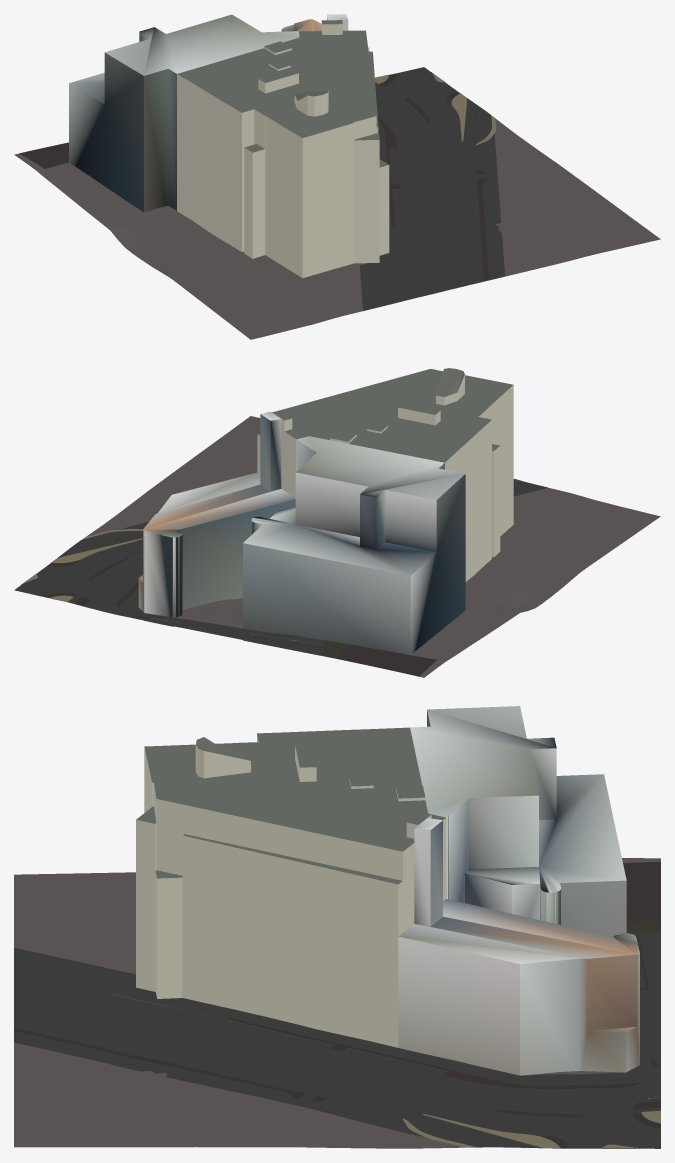
The picture shows the model from 3 angles, top to bottom: view 1: azimuth 30°, elevation 25°; view 2: azimuth 150°, elevation 25°; view 3: azimuth 270°, elevation 25°; orthographic projection. The views are drawn at different scales.
Visible parts, largest first — view 1: c_m14_p11; view 2: c_m14_p11; view 3: c_m14_p11.
Part boxes in pixels (x1,y1,x2,y2): c_m14_p11: [14, 14, 660, 339]; c_m14_p11: [14, 368, 660, 677]; c_m14_p11: [14, 706, 660, 1148].
Size of the model in its own units: 128 by 50.9 by 128.
